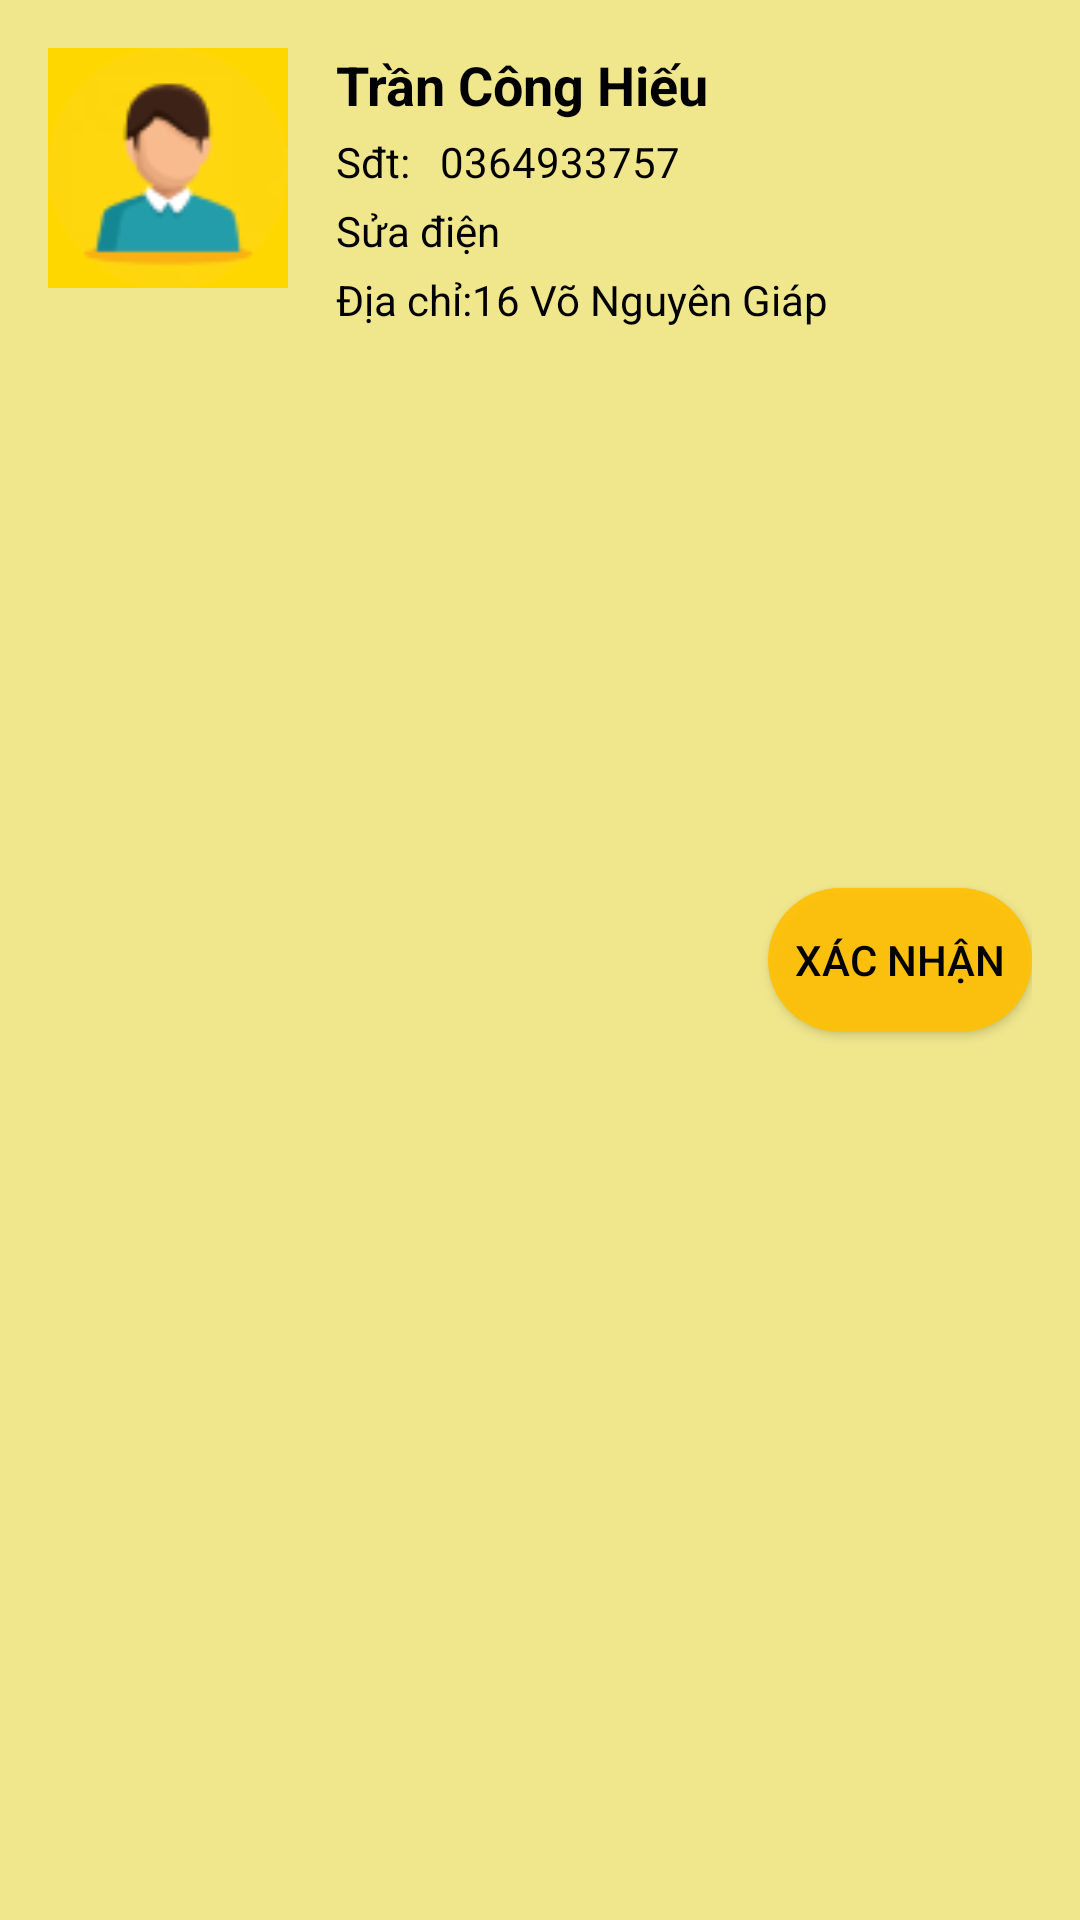

Icons on this 1080px x 1920px Android screen, each with its box as {"left": x1, "top": y1, "right": x2, "bottom": y2}:
user: {"left": 48, "top": 48, "right": 288, "bottom": 288}
